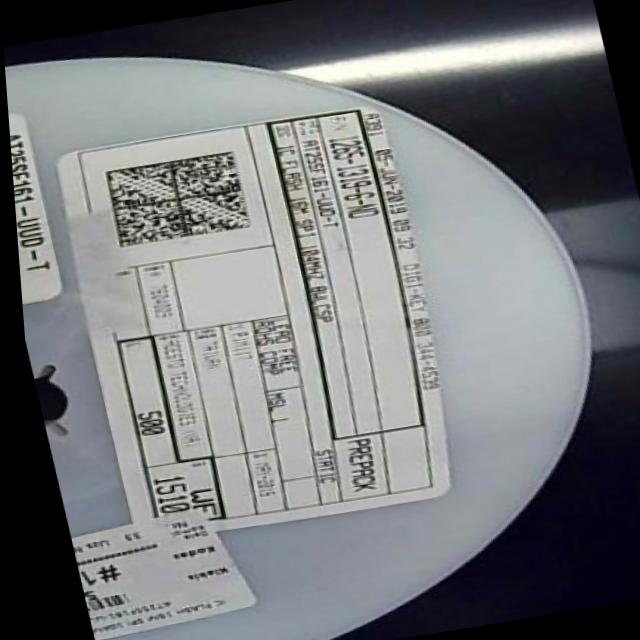datamatrix: (96, 149, 255, 254)
